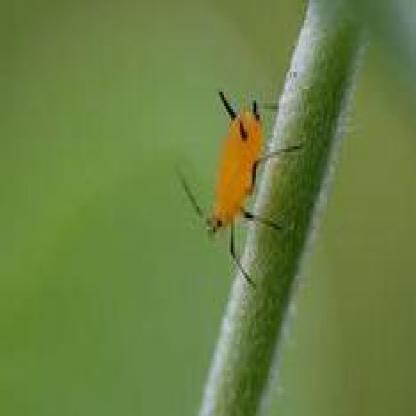aphid: (180, 75, 300, 284)
